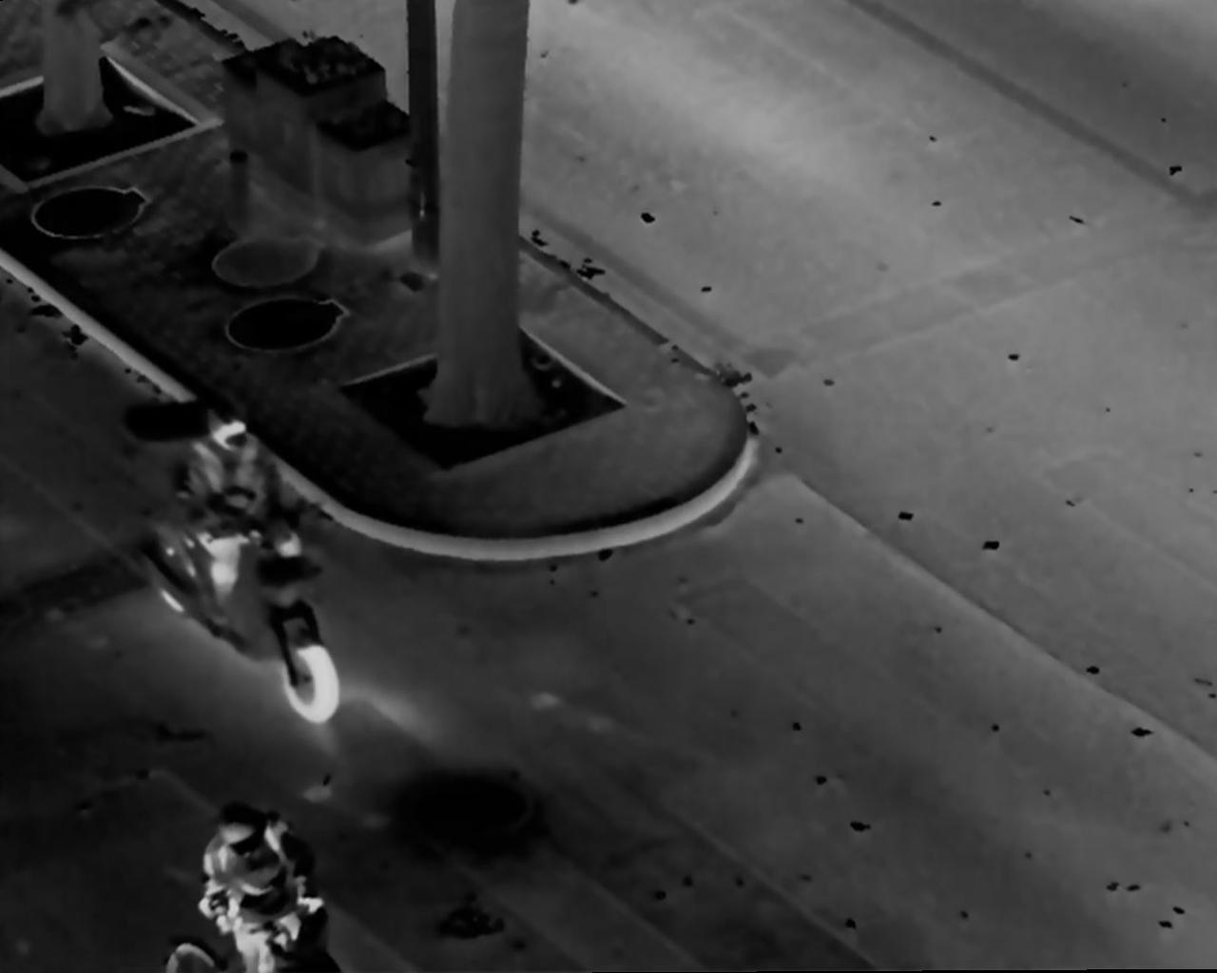person: (168, 404, 311, 653), (171, 792, 322, 973)
